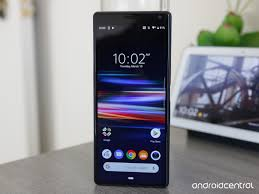sony: (90, 4, 173, 188)
